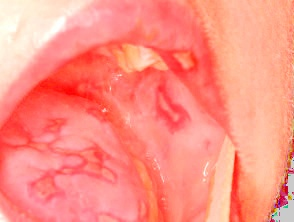SJS-TEN: (49, 62, 192, 222), (93, 2, 238, 156), (0, 96, 131, 211)
